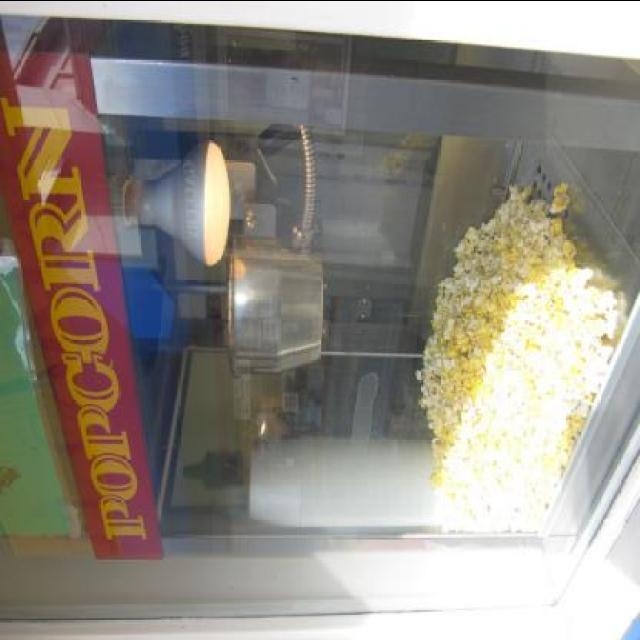Popcorn: (412, 180, 616, 537)
